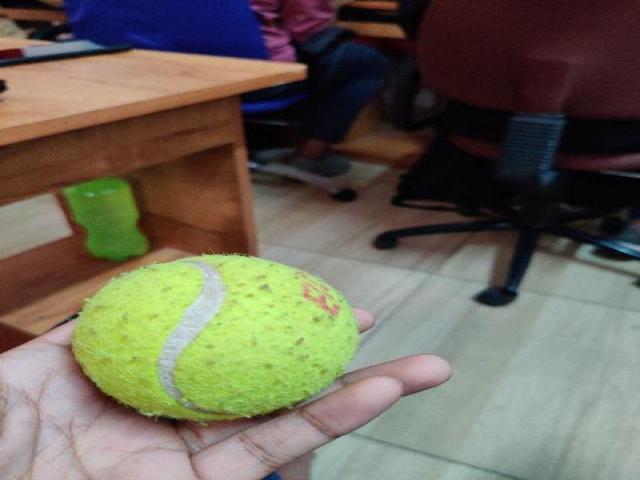tennis-ball: (72, 255, 360, 419)
